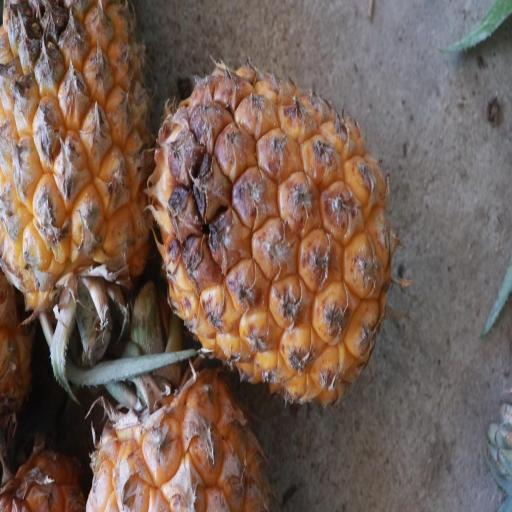Pineapple - v8 v1: (146, 56, 400, 411), (0, 2, 157, 355)
